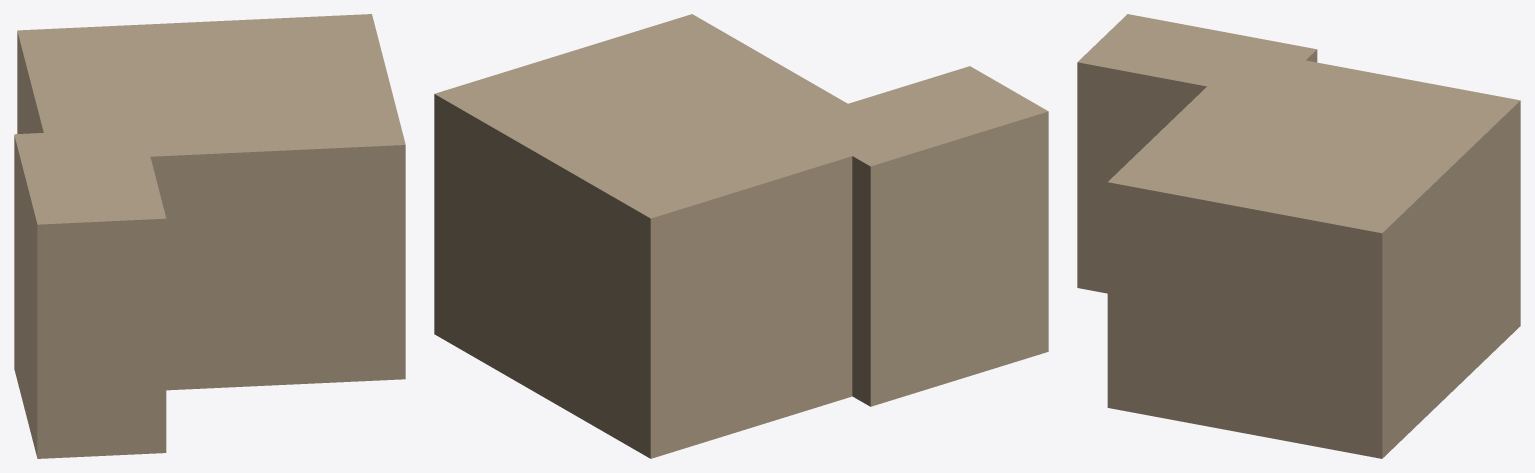
The model's file is bld_99531915.dae.
3 renders of one model, left to right at view 1: azimuth 30°, elevation 25°; view 2: azimuth 150°, elevation 25°; view 3: azimuth 270°, elevation 25°, orthographic. The views are drawn at different scales.
Parts seen in each view (by area): view 1: bld_99531915; view 2: bld_99531915; view 3: bld_99531915.
Boxes of the visible parts, bbox=[...] form: bld_99531915: bbox=[14, 14, 405, 458]; bld_99531915: bbox=[434, 14, 1048, 458]; bld_99531915: bbox=[1077, 14, 1520, 458].
Size of the model in its own units: 25.01 by 21.36 by 12.
